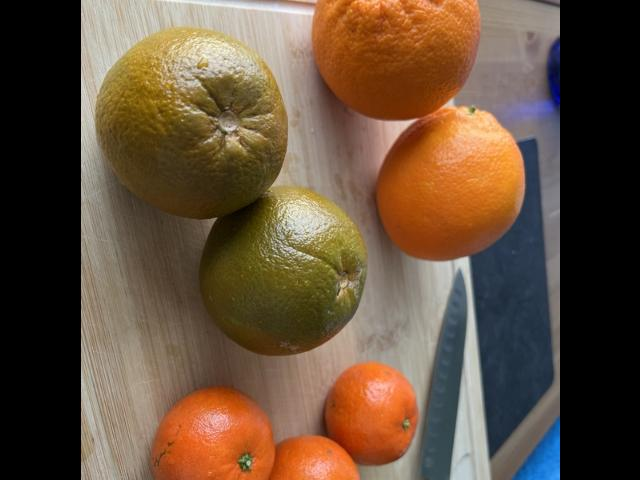Oranges: (374, 108, 526, 260), (312, 0, 481, 119), (150, 387, 271, 480), (324, 363, 418, 465), (260, 437, 360, 480)
